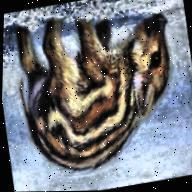boar: (6, 0, 189, 183)
